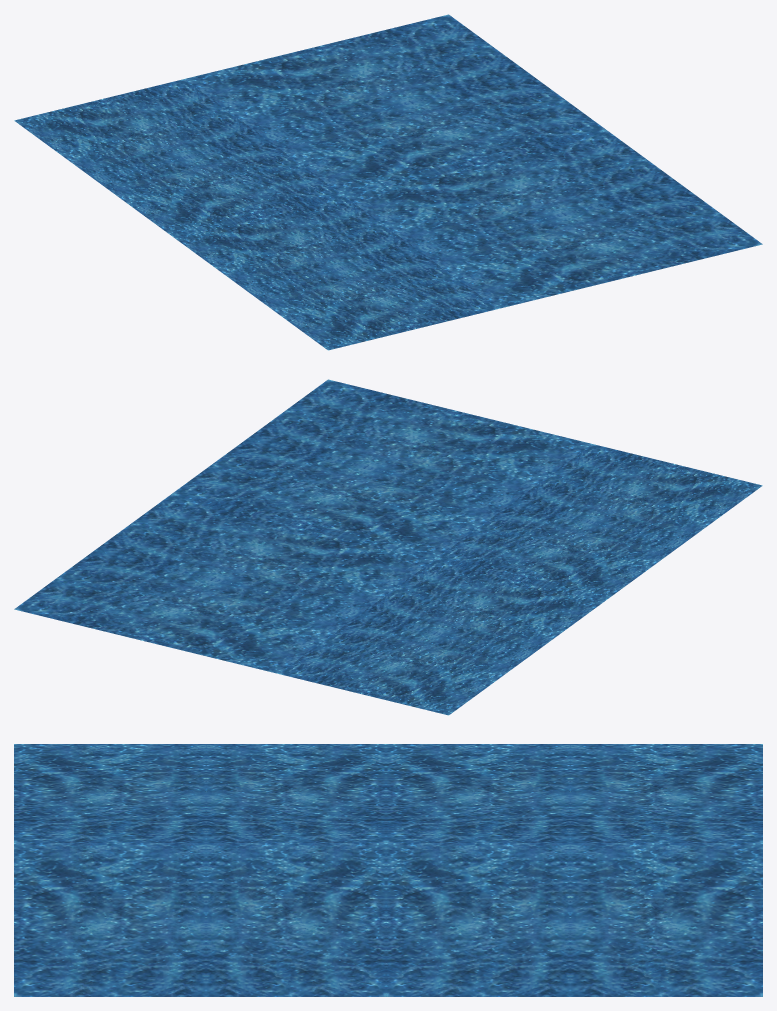
File: ny_seaport.fbx
3 views of the same model, one above another, from view 1: azimuth 30°, elevation 25°; view 2: azimuth 150°, elevation 25°; view 3: azimuth 270°, elevation 25° (orthographic). The views are drawn at different scales.
Visible parts, largest first — view 1: ny_seaport1; view 2: ny_seaport1; view 3: ny_seaport1.
Part boxes in pixels (x1,y1,x2,y2): ny_seaport1: (14,14,762,350); ny_seaport1: (14,379,762,715); ny_seaport1: (14,744,762,996).
Bounding box in the file's own units: 7992 × 1.53e-05 × 10000.
